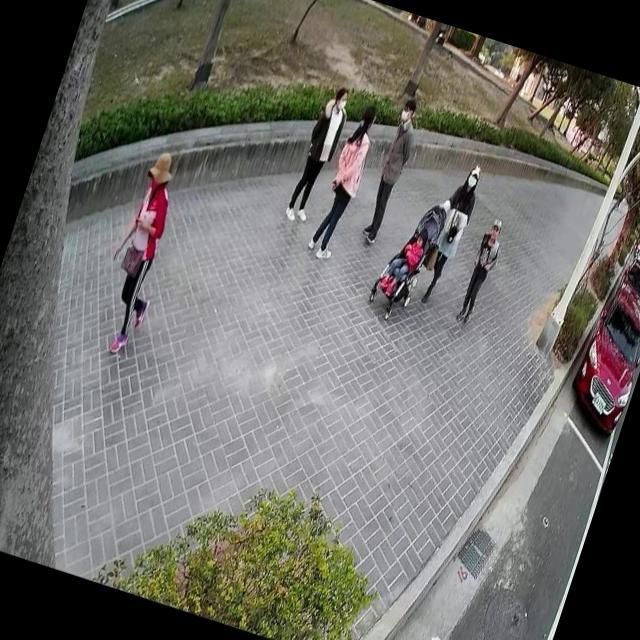person: (80, 139, 200, 365), (302, 93, 388, 268), (408, 151, 490, 312), (354, 90, 429, 252), (279, 76, 357, 230), (452, 210, 514, 330), (377, 216, 433, 302)
